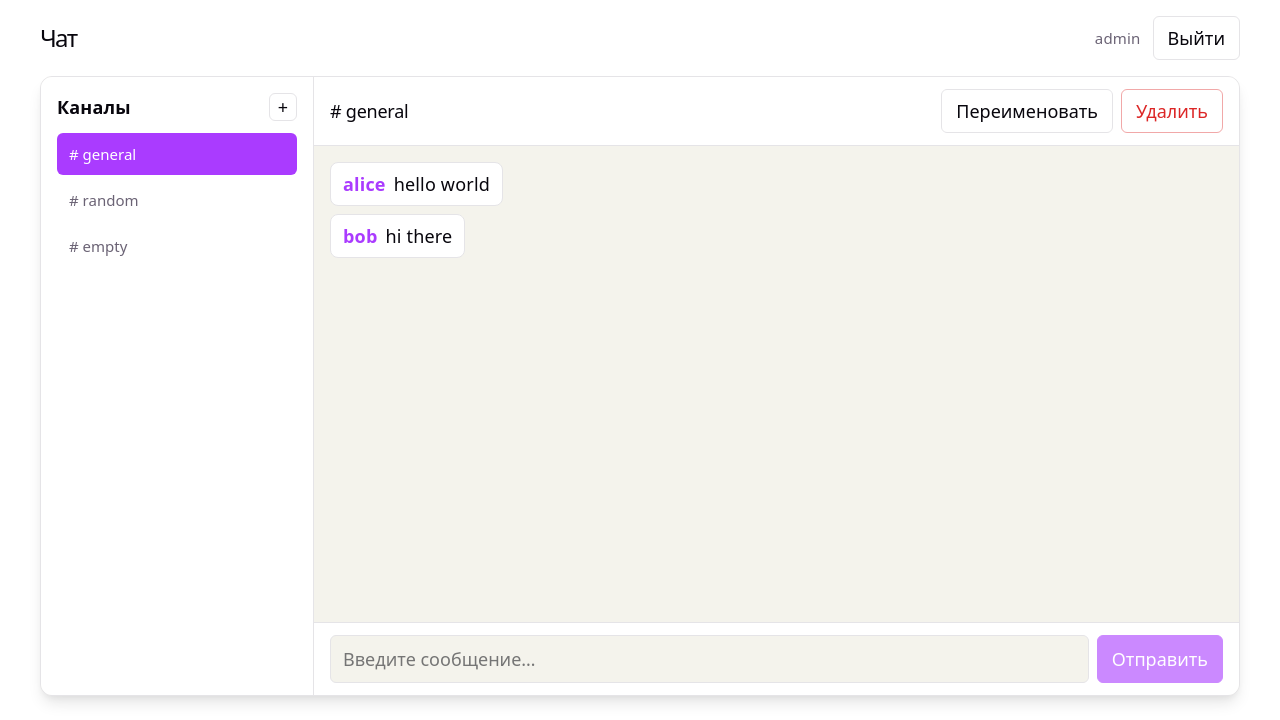
Scenario: ChatWindow › channels and selection › shows an empty-state notice for a channel without messages
Expected: the heading "# general" is shown, [330,100,408,122]
Click the button "# empty" at x=177, y=246, box [57,225,297,267]
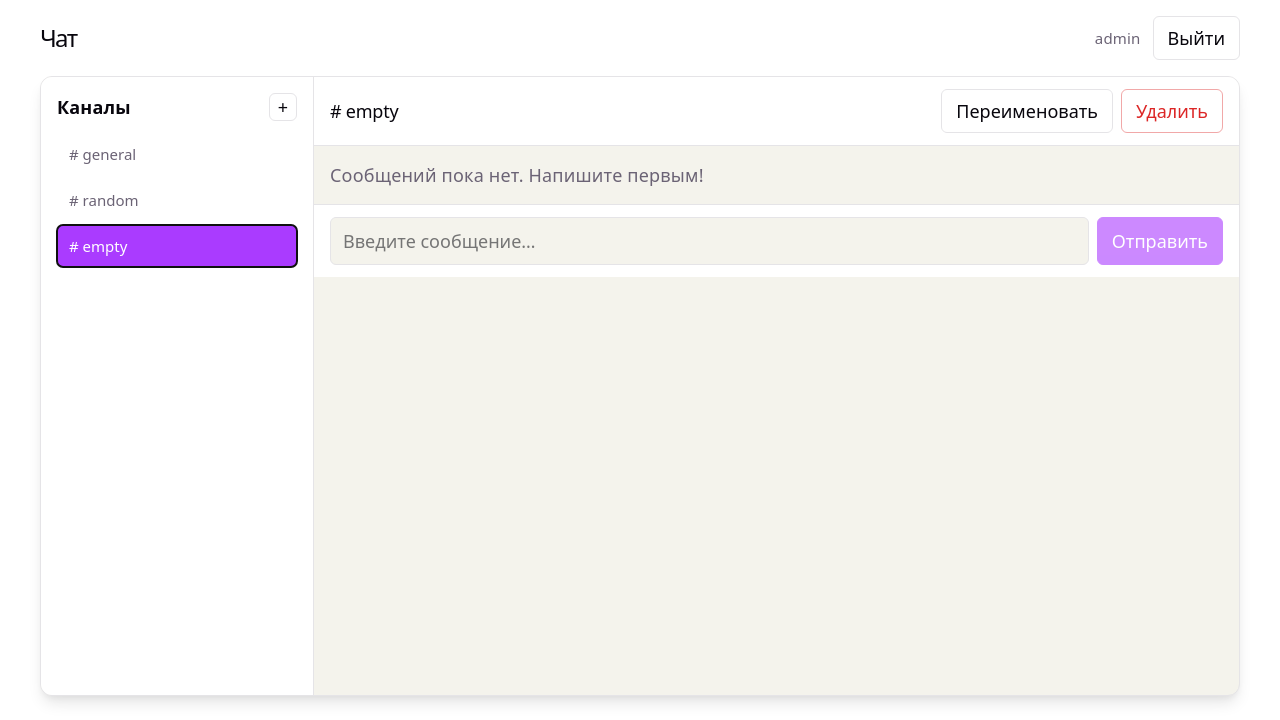
Now the text "Сообщений пока нет. Напишите первым!" is shown, box [330,163,704,187]
